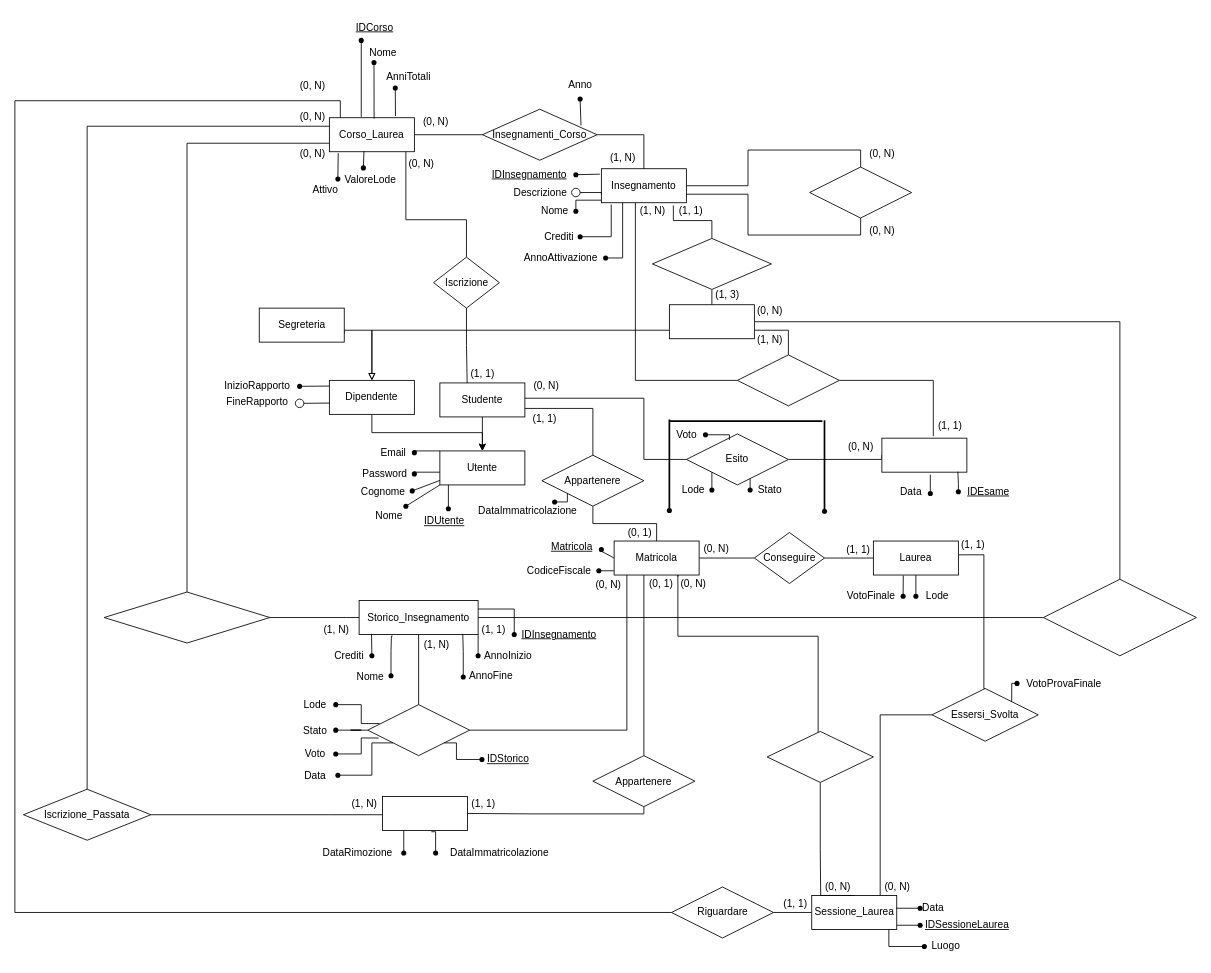
This 1211x973 diagram has some shape labels left out. The box of each missing label's shape, as (x1, y1, x2, y2) in pixels:
Composizione_Passata_Corso: (103, 591, 270, 643)
Docente: (669, 304, 754, 339)
Esame: (881, 437, 967, 472)
Essere_responsabile: (652, 238, 771, 289)
Essere_Stato_Responsabile: (1043, 578, 1196, 656)
Iscrizione_Sessione: (766, 731, 873, 782)
Propedeuticita: (809, 166, 912, 218)
Riguarda: (737, 354, 839, 406)
Storico_Esame: (367, 704, 470, 756)
Storico_Studente: (382, 796, 468, 830)
